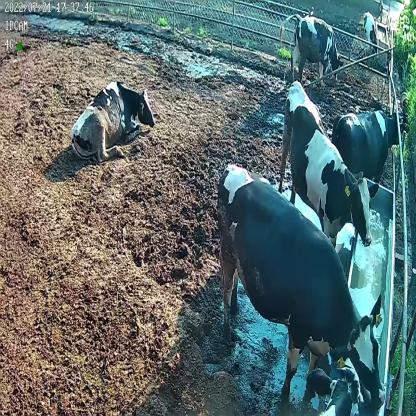cow: (216, 162, 386, 410), (279, 82, 373, 256), (71, 79, 157, 163), (334, 107, 401, 186), (280, 10, 343, 83)
